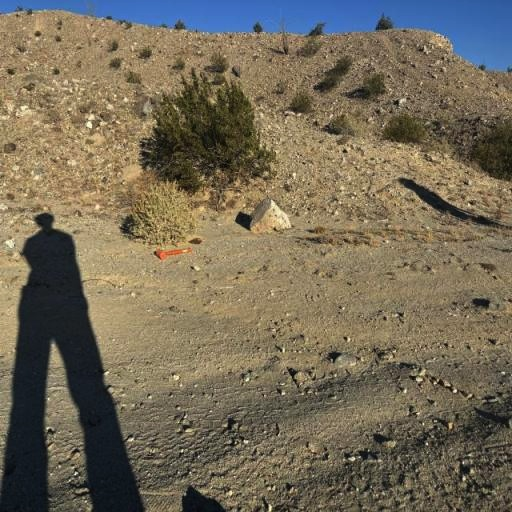mallet: (150, 236, 194, 264)
